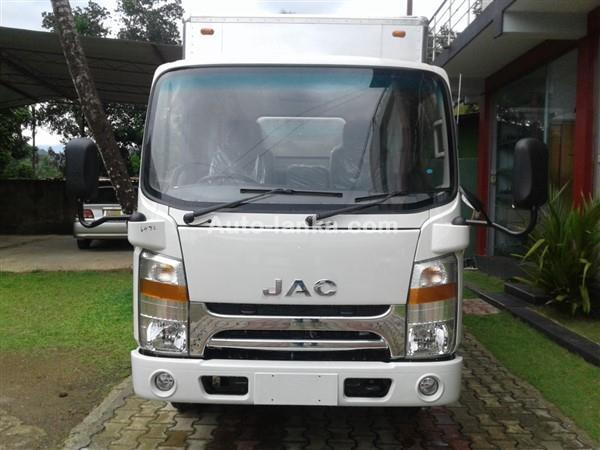car: (71, 178, 139, 250)
truck: (65, 13, 549, 410)
